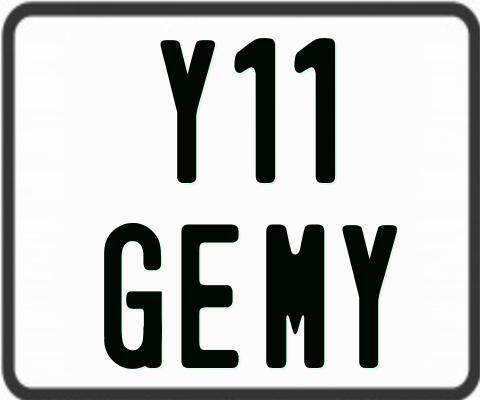1: (232, 37, 278, 182), (292, 36, 336, 181)
E: (181, 223, 241, 372)
G: (104, 220, 164, 366)
M: (265, 224, 329, 372)
Y: (161, 37, 219, 185), (341, 222, 398, 371)
